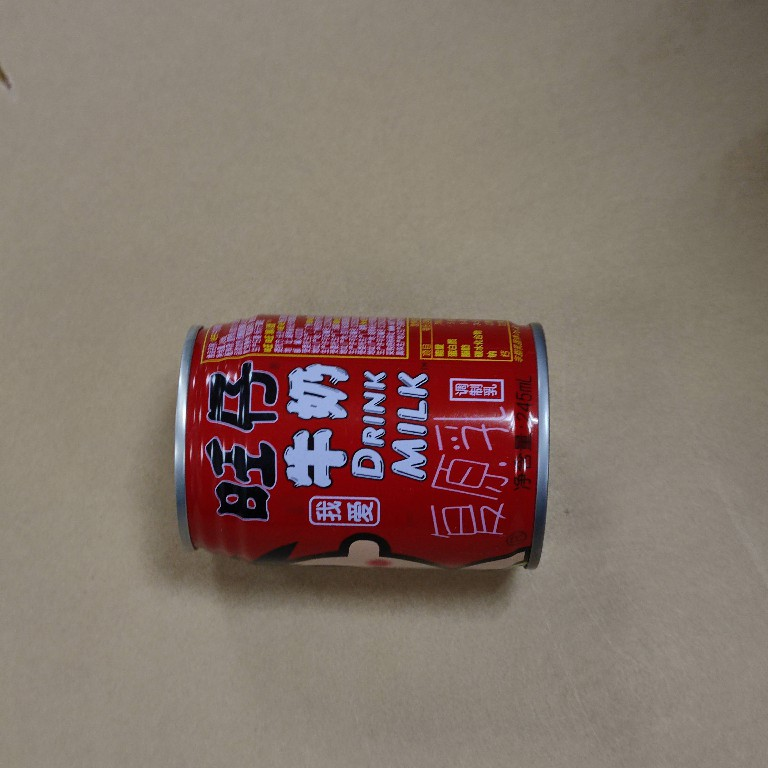can: (171, 311, 554, 574)
